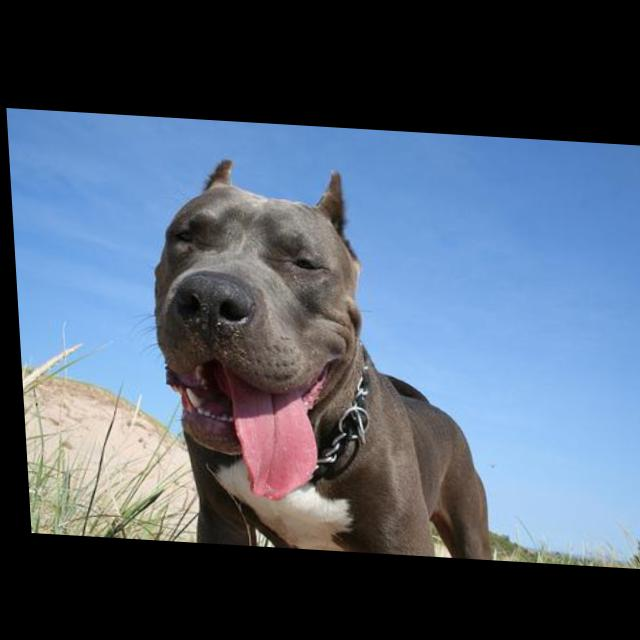amstaff: (134, 151, 490, 555)
